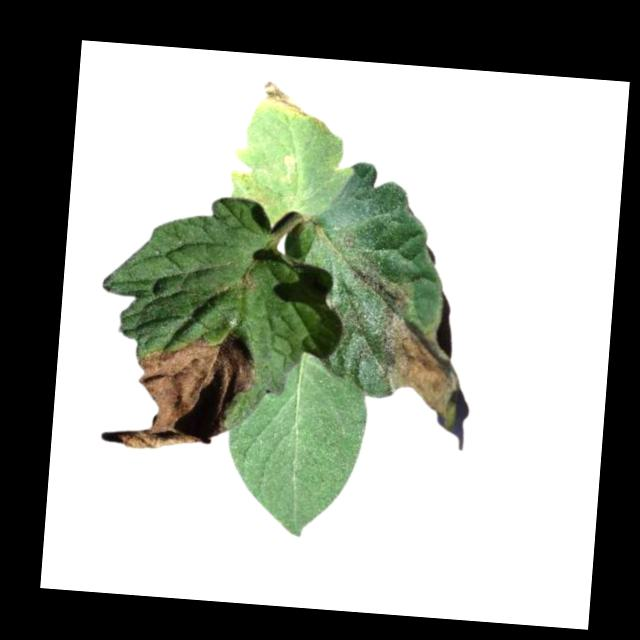Late_blight: (121, 322, 260, 456), (373, 287, 477, 441), (257, 80, 310, 117)
healthy: (221, 346, 372, 540)
